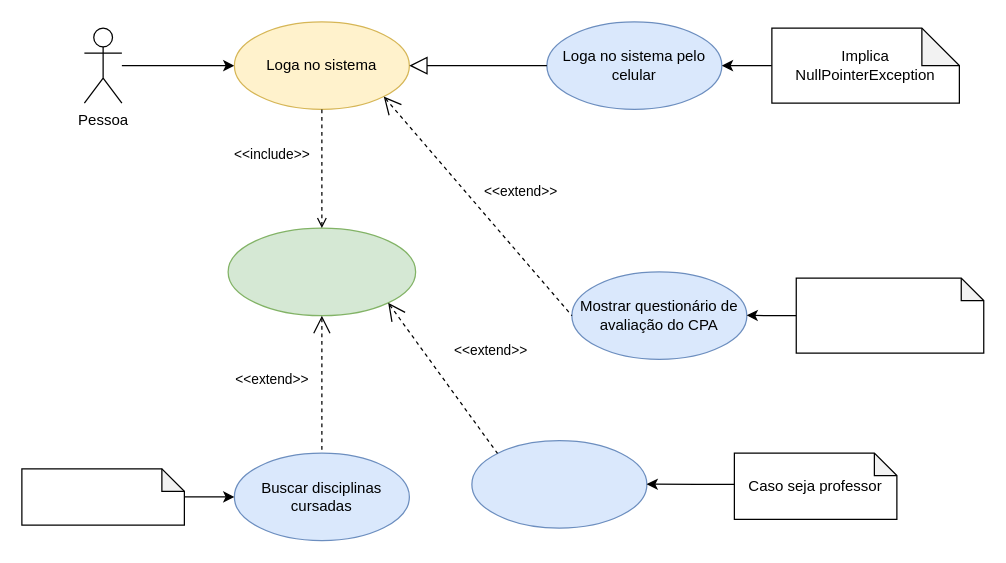
Some shapes in this 1006 by 563 pixel diagram are drawn without their labels. Here are the shapes that lost their labels. From the top down, the box of each, then its label:
(227, 227, 416, 316): Buscar dados da pessoa
(795, 277, 984, 353): Caso esteja no período
(21, 468, 184, 525): Caso seja aluno
(471, 439, 647, 528): Buscar disciplinas ministradas
